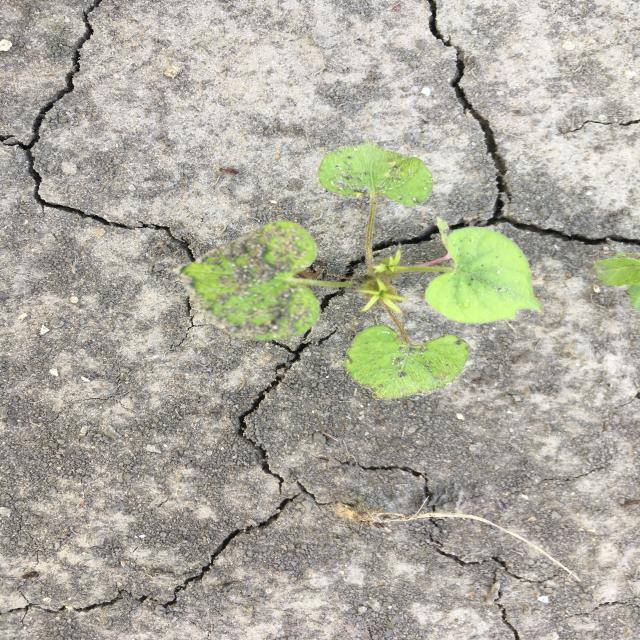MorningGlory: (173, 140, 544, 403)
